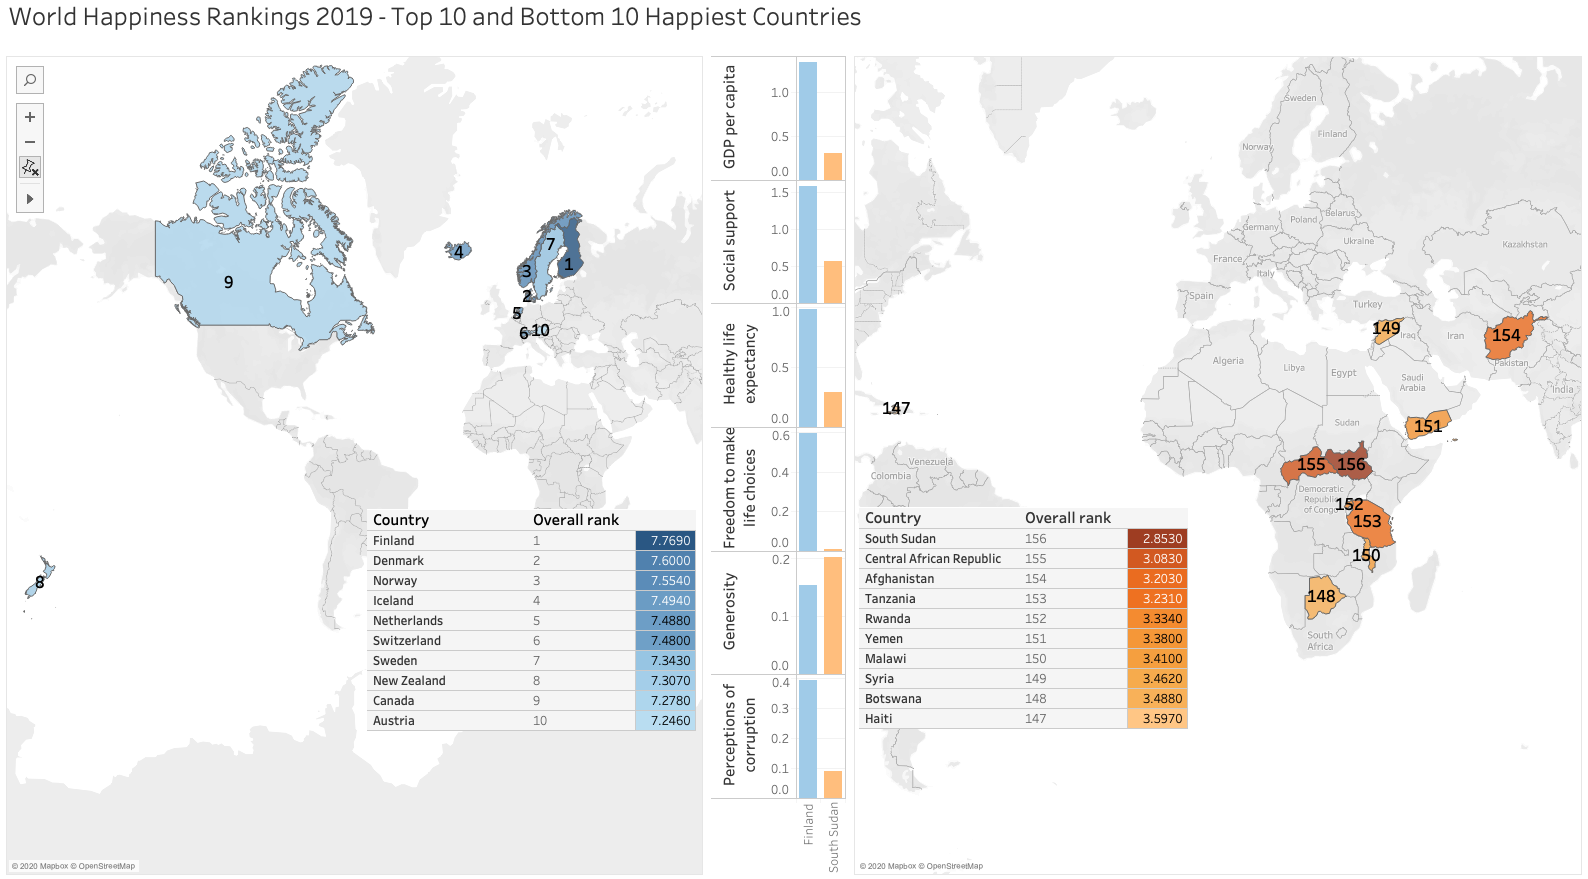

This screenshot's page, from the dashboard's own definition file:
{"tool":"tableau","page":{"name":"Vis1","canvas":[1600,900],"ordinal":0},"visuals":[{"type":"worksheet","box":[0,0,1600,900]},{"type":"worksheet","param":"vert","box":[8,8,1584,884]},{"type":"worksheet","box":[8,8,1584,42]},{"type":"worksheet","box":[8,50,1584,842]},{"type":"worksheet","param":"horz","box":[8,50,705,842]},{"type":"worksheet","box":[8,50,705,842]},{"type":"worksheet","title":"top10graph","mark":"Automatic","box":[8,50,705,842]},{"type":"worksheet","title":"variableComparison","mark":"Automatic","rows":["GDP per capita","Social support","Healthy life expectancy","Freedom to make life choices","Generosity","Perceptions of corruption"],"cols":["Country or region"],"box":[713,50,143,842]},{"type":"worksheet","title":"bottom10graph","mark":"Automatic","box":[856,50,736,842]},{"type":"worksheet","title":"bottom10","mark":"Square","rows":["Country or region","Overall rank"],"box":[865,506,329,237]},{"type":"worksheet","title":"top10","mark":"Square","rows":["Country or region","Overall rank"],"box":[373,508,332,238]}]}

Visuals, with their boxes in screenshot pixels (x1, y1, x2, y2), scaled from the page's 1600x900 canvas onto the 1588x879 screenshot:
worksheet: <bbox>0, 0, 1587, 878</bbox>
worksheet: <bbox>8, 8, 1580, 871</bbox>
worksheet: <bbox>8, 8, 1580, 49</bbox>
worksheet: <bbox>8, 49, 1580, 871</bbox>
worksheet: <bbox>8, 49, 708, 871</bbox>
worksheet: <bbox>8, 49, 708, 871</bbox>
"top10graph" worksheet: <bbox>8, 49, 708, 871</bbox>
"variableComparison" worksheet: <bbox>708, 49, 850, 871</bbox>
"bottom10graph" worksheet: <bbox>850, 49, 1580, 871</bbox>
"bottom10" worksheet (Square marks): <bbox>859, 494, 1185, 726</bbox>
"top10" worksheet (Square marks): <bbox>370, 496, 700, 729</bbox>
